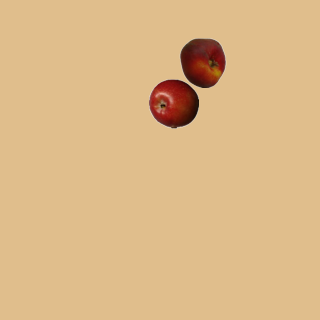Apple Braeburn: (148, 78, 198, 128)
Nectarine Flat: (177, 37, 227, 87)
